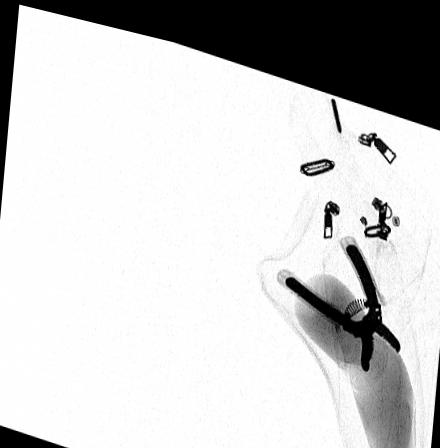Pliers: (280, 225, 402, 351)
